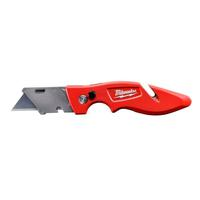knife: (7, 79, 194, 120)
